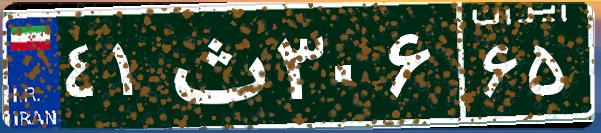0: (330, 28, 385, 110)
1: (110, 28, 158, 105)
3: (273, 28, 330, 110)
4: (57, 26, 110, 107)
5: (525, 38, 570, 115)
6: (385, 28, 445, 110), (475, 38, 525, 113)
ث: (158, 15, 273, 115)
